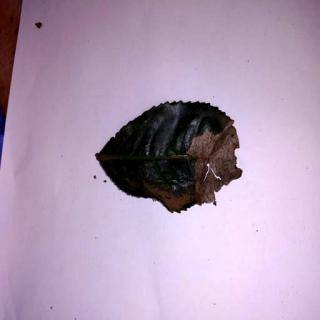Anthracnose: (94, 97, 245, 217)
